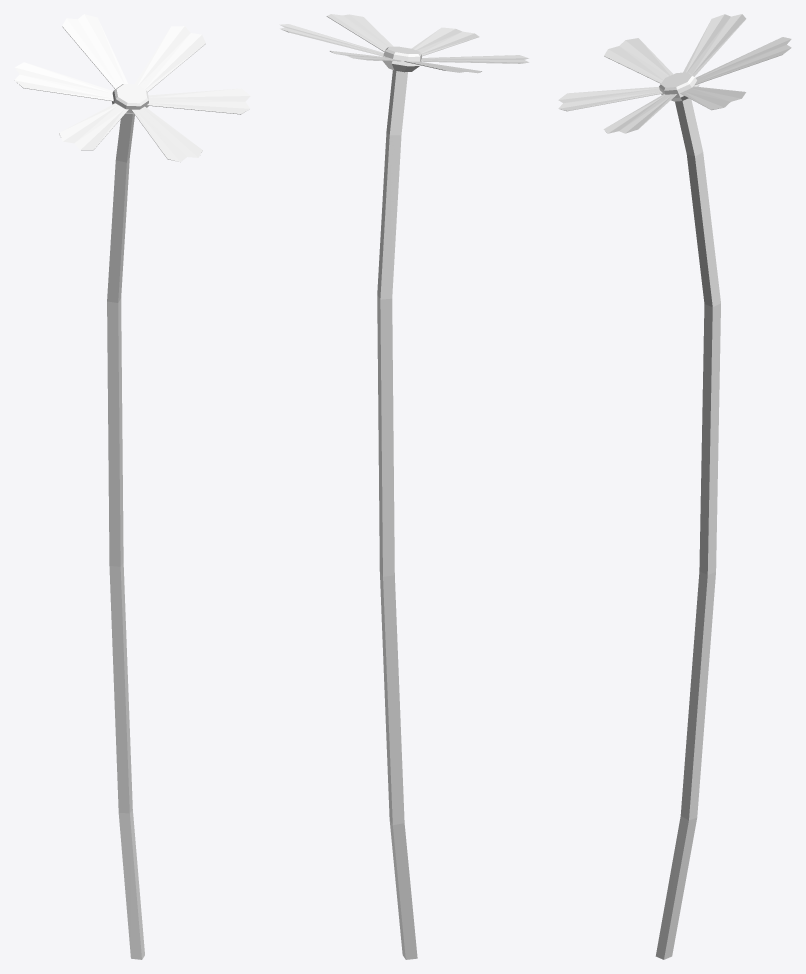
Rendered from Env_Flowers_08.glb.
The picture shows the model from 3 angles, left to right: view 1: azimuth 30°, elevation 25°; view 2: azimuth 150°, elevation 25°; view 3: azimuth 270°, elevation 25°; orthographic projection. The views are drawn at different scales.
Visible parts, largest first — view 1: Env_Flowers_08; view 2: Env_Flowers_08; view 3: Env_Flowers_08.
Part boxes in pixels (x1,y1,x2,y2): Env_Flowers_08: [14, 14, 250, 959]; Env_Flowers_08: [279, 14, 529, 959]; Env_Flowers_08: [558, 14, 791, 959].
Bounding box in the file's own units: 0.1326 × 0.6037 × 0.1401.
Materials: 1 (1 with a texture image).
